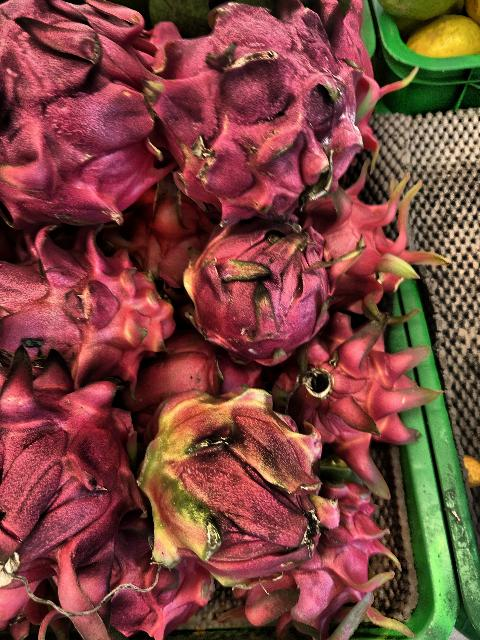buah-naga-belum-matang: (120, 388, 350, 582), (0, 245, 186, 392), (177, 216, 352, 358)
buah-naga-matang: (133, 7, 369, 223), (0, 1, 170, 228), (0, 352, 148, 604), (274, 317, 432, 485), (294, 181, 436, 309)
